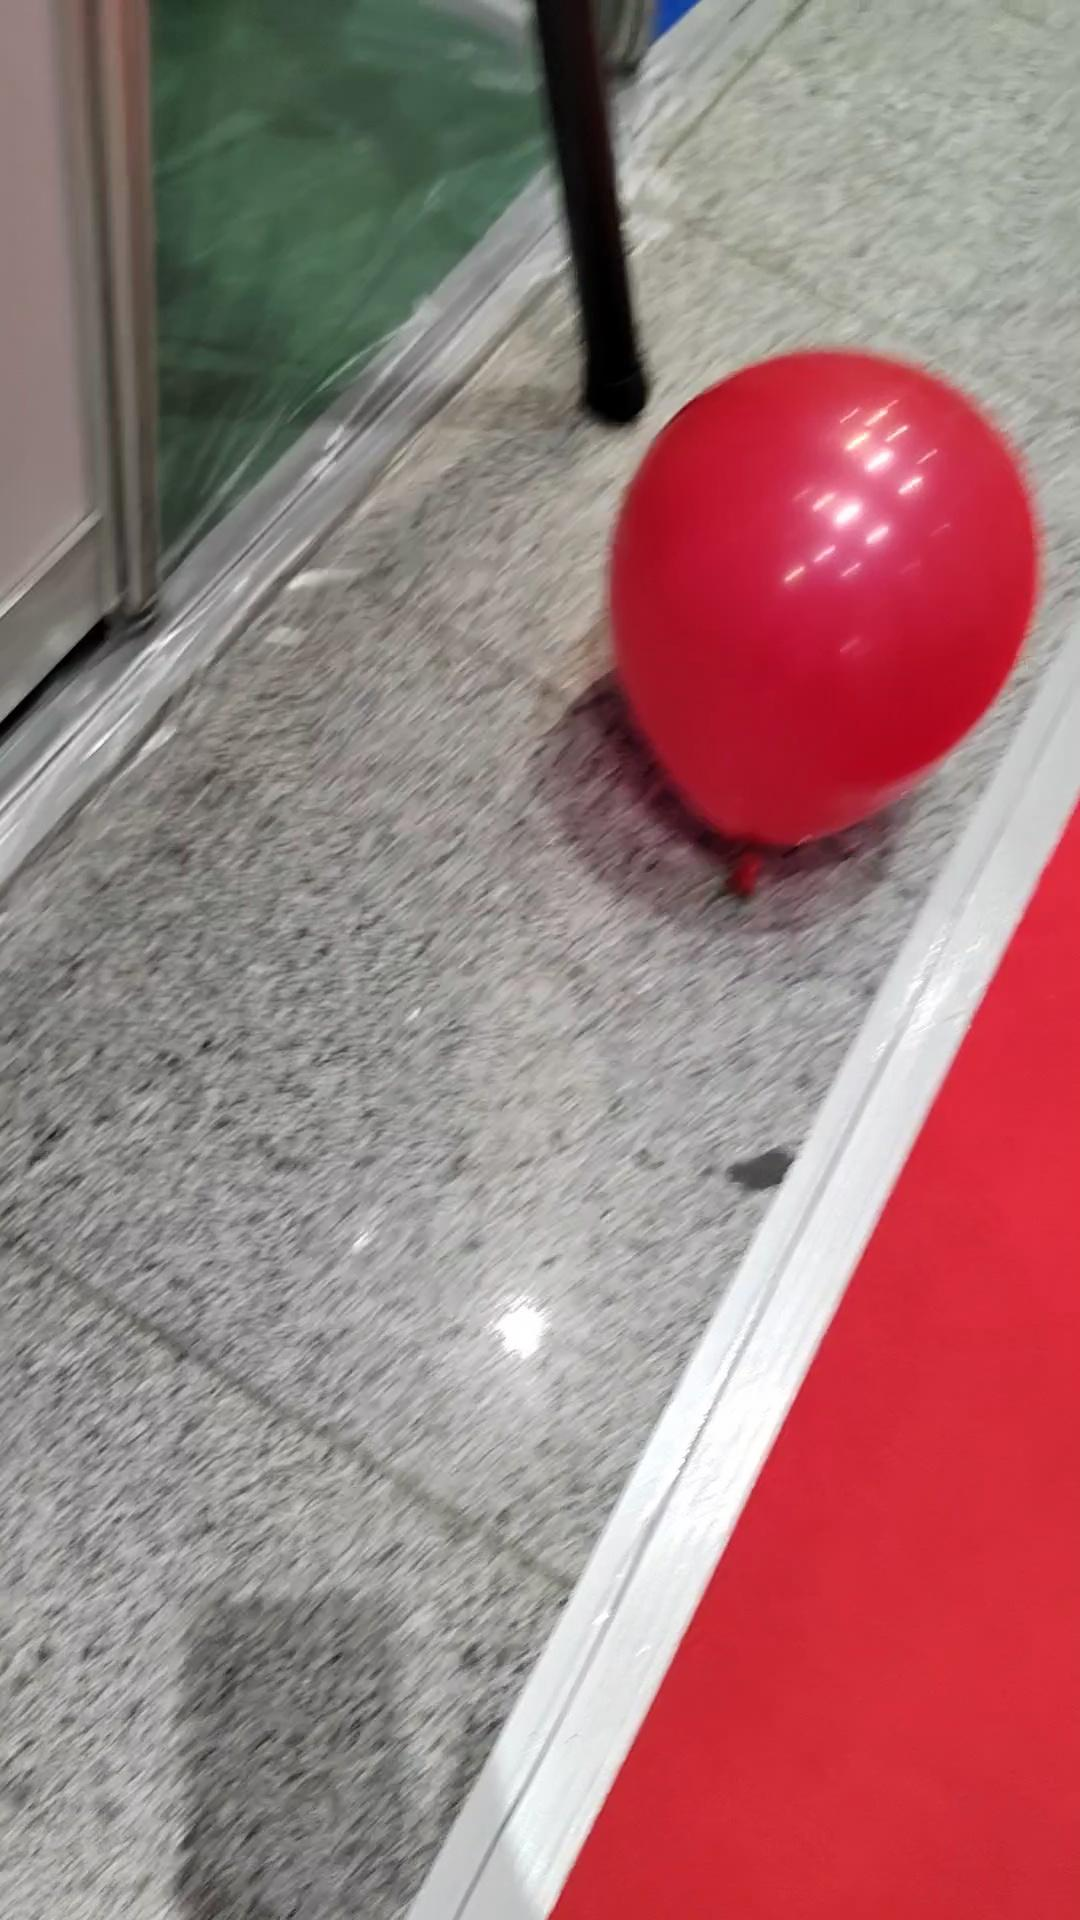red: (607, 348, 1044, 866)
